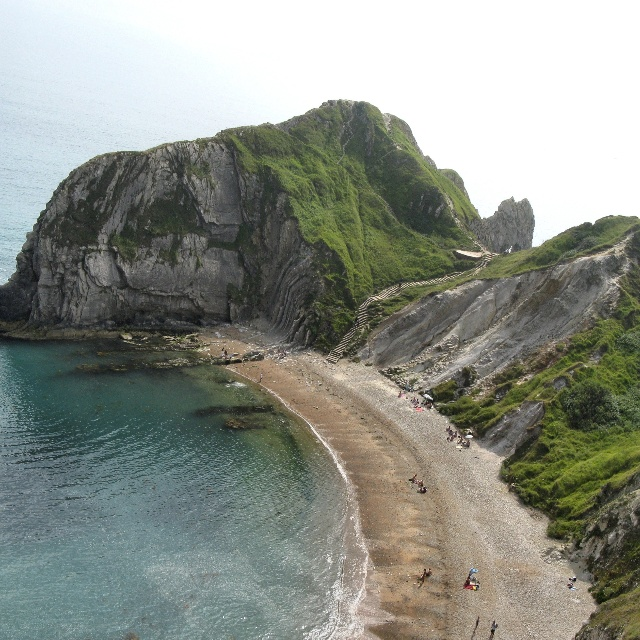linhaEspraiamento: (227, 443, 432, 638), (199, 371, 367, 466), (179, 369, 318, 396)
